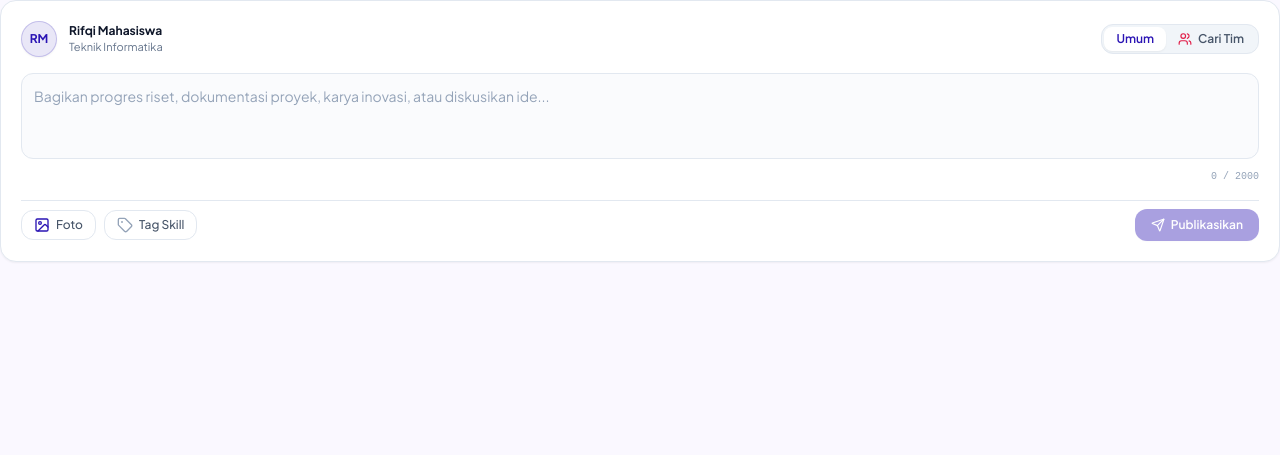
Test case: M05 Feed & Post Creation Frontend Tests › CreatePostCard › enables submit button and shows required skill indicator when type is 'cari_anggota'
This screenshot has width=1280, height=455.
Step 1. Replace the text in the text box with placeholder "Bagikan progres riset" with "Mencari frontend developer React" → (640, 116), box [21,73,1259,159]
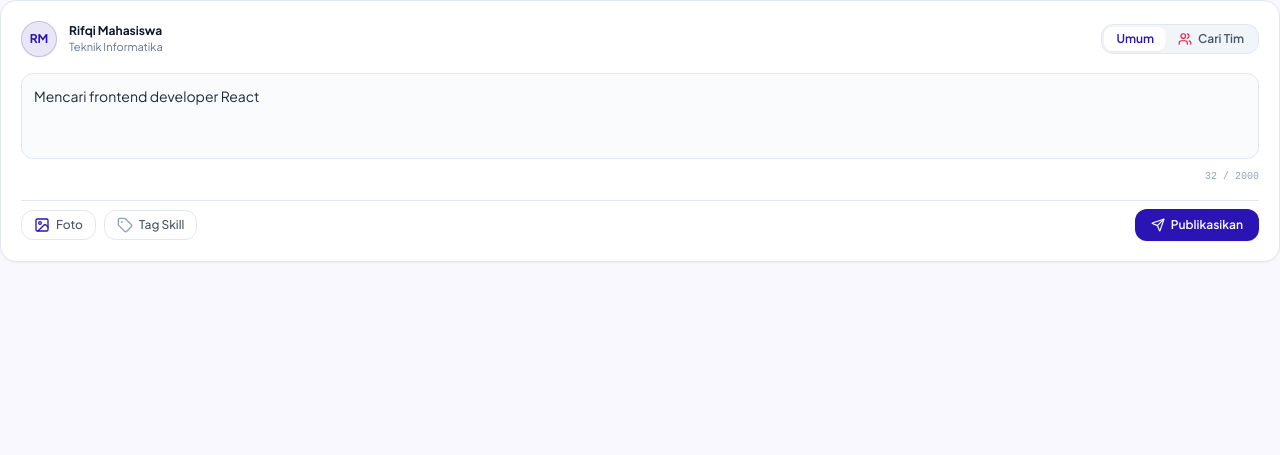
Step 2. Click the button "Cari Tim" → (1211, 39), box [1166,27,1256,51]
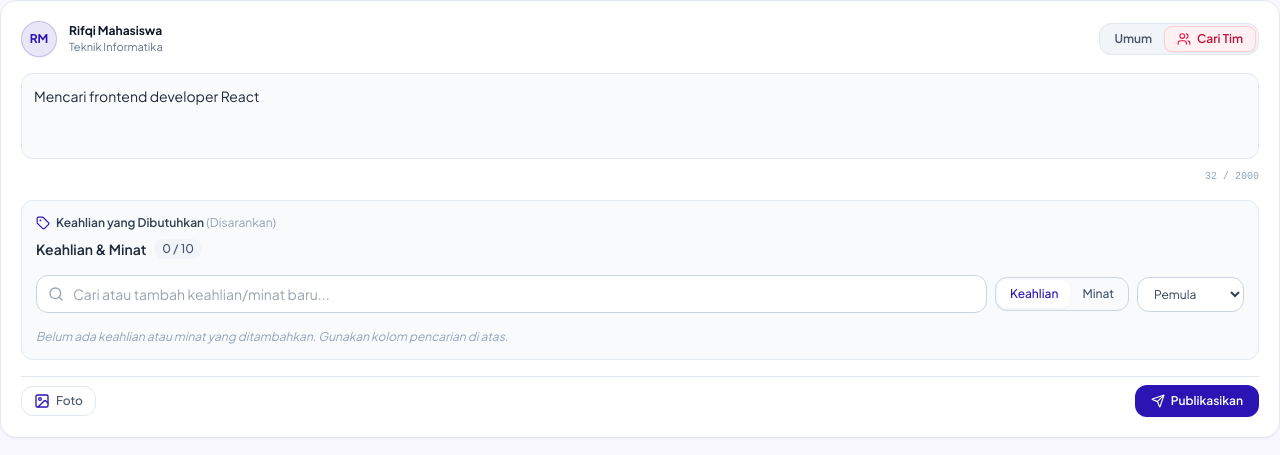
Check: the button "Publikasikan" is enabled, box [1135,385,1259,417]
Check: the text "Keahlian yang Dibutuhkan (Disarankan)" is shown, box [56,215,276,231]
